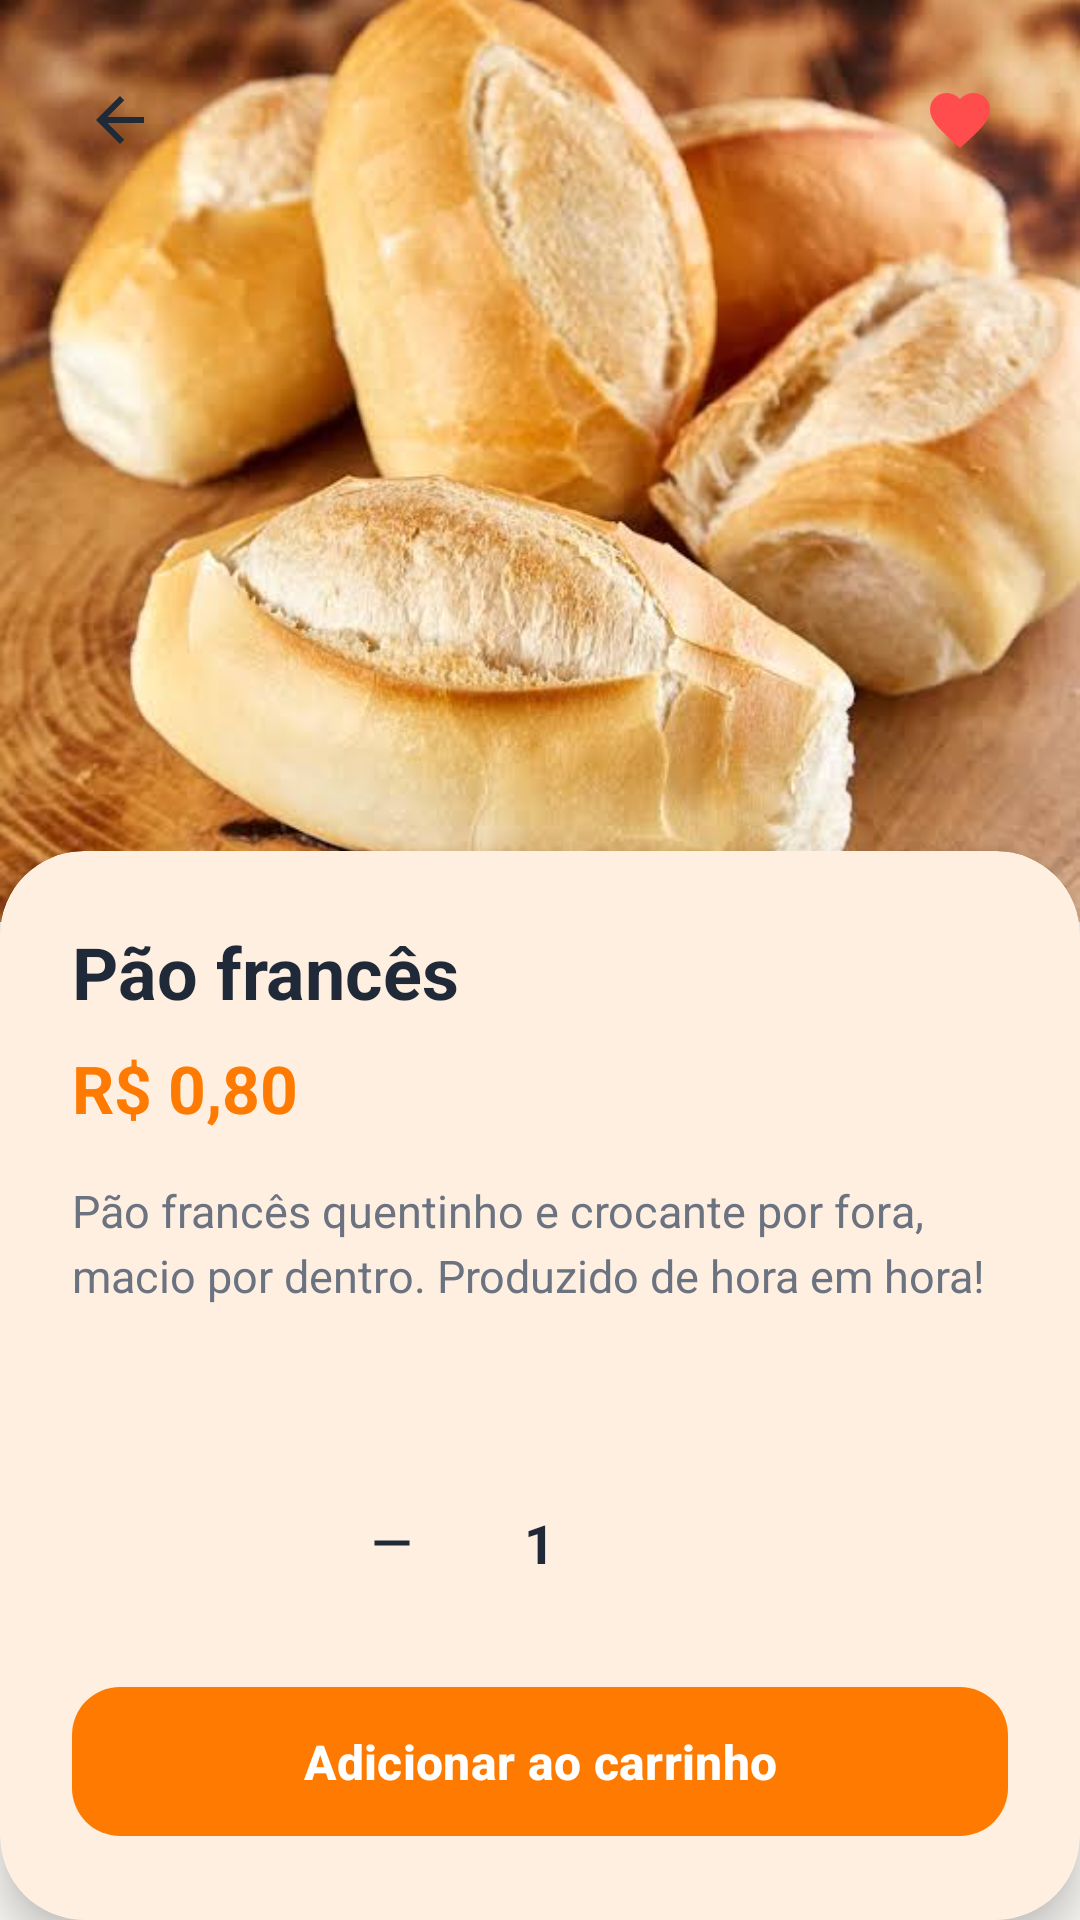

Where to tap for icons on this 1080*1920 app screen, as point (x, y):
minus: point (392, 1543)
